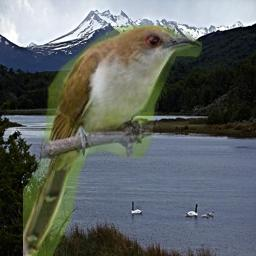Cuckoo: (23, 25, 202, 256)
